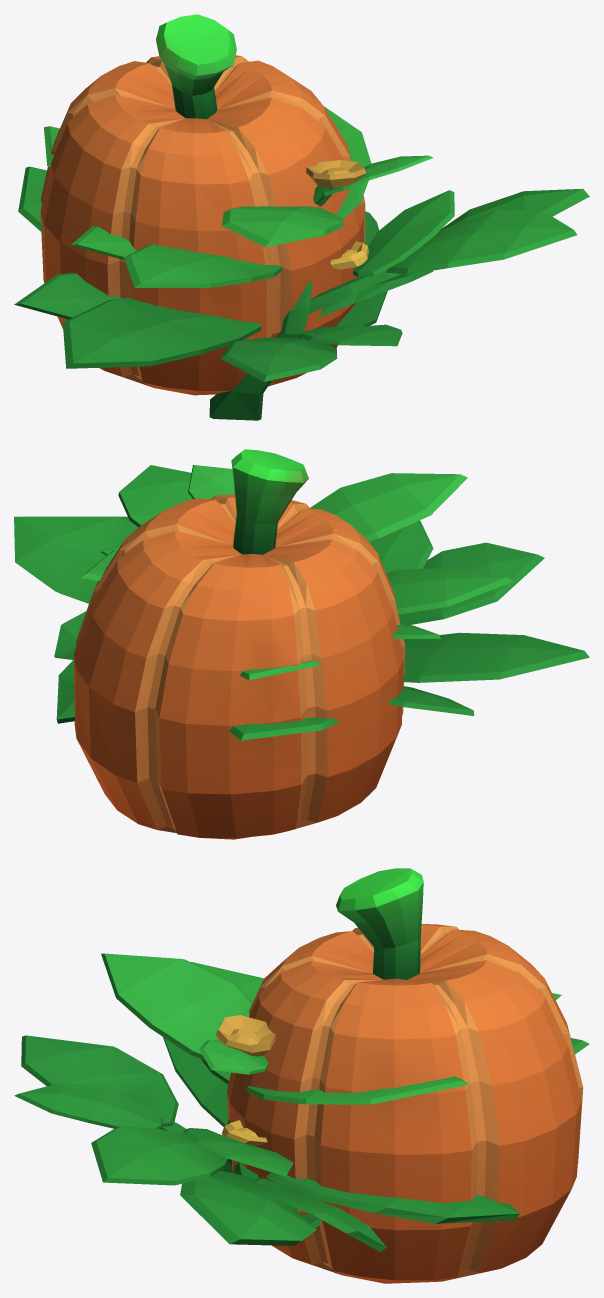
Rendered from crop_pumpkin_stage3.glb.
3 renders of one model, top to bottom at view 1: azimuth 30°, elevation 25°; view 2: azimuth 150°, elevation 25°; view 3: azimuth 270°, elevation 25°, orthographic. The views are drawn at different scales.
Visible parts, largest first — view 1: crop_pumpkin_stage3; view 2: crop_pumpkin_stage3; view 3: crop_pumpkin_stage3.
Boxes of the visible parts, x1,y1,x2,y2 form: crop_pumpkin_stage3: [14, 14, 589, 420]; crop_pumpkin_stage3: [14, 449, 589, 839]; crop_pumpkin_stage3: [14, 868, 589, 1283].
Size of the model in its own units: 0.66 by 0.4 by 0.574.
1 material, 1 textured.
